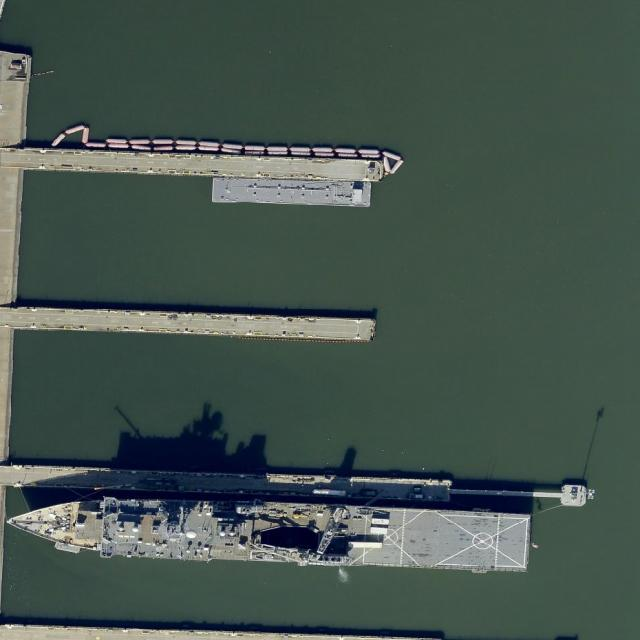Dock: (6, 464, 451, 506), (23, 145, 385, 185), (14, 304, 375, 343)
Landing: (3, 489, 532, 575)
